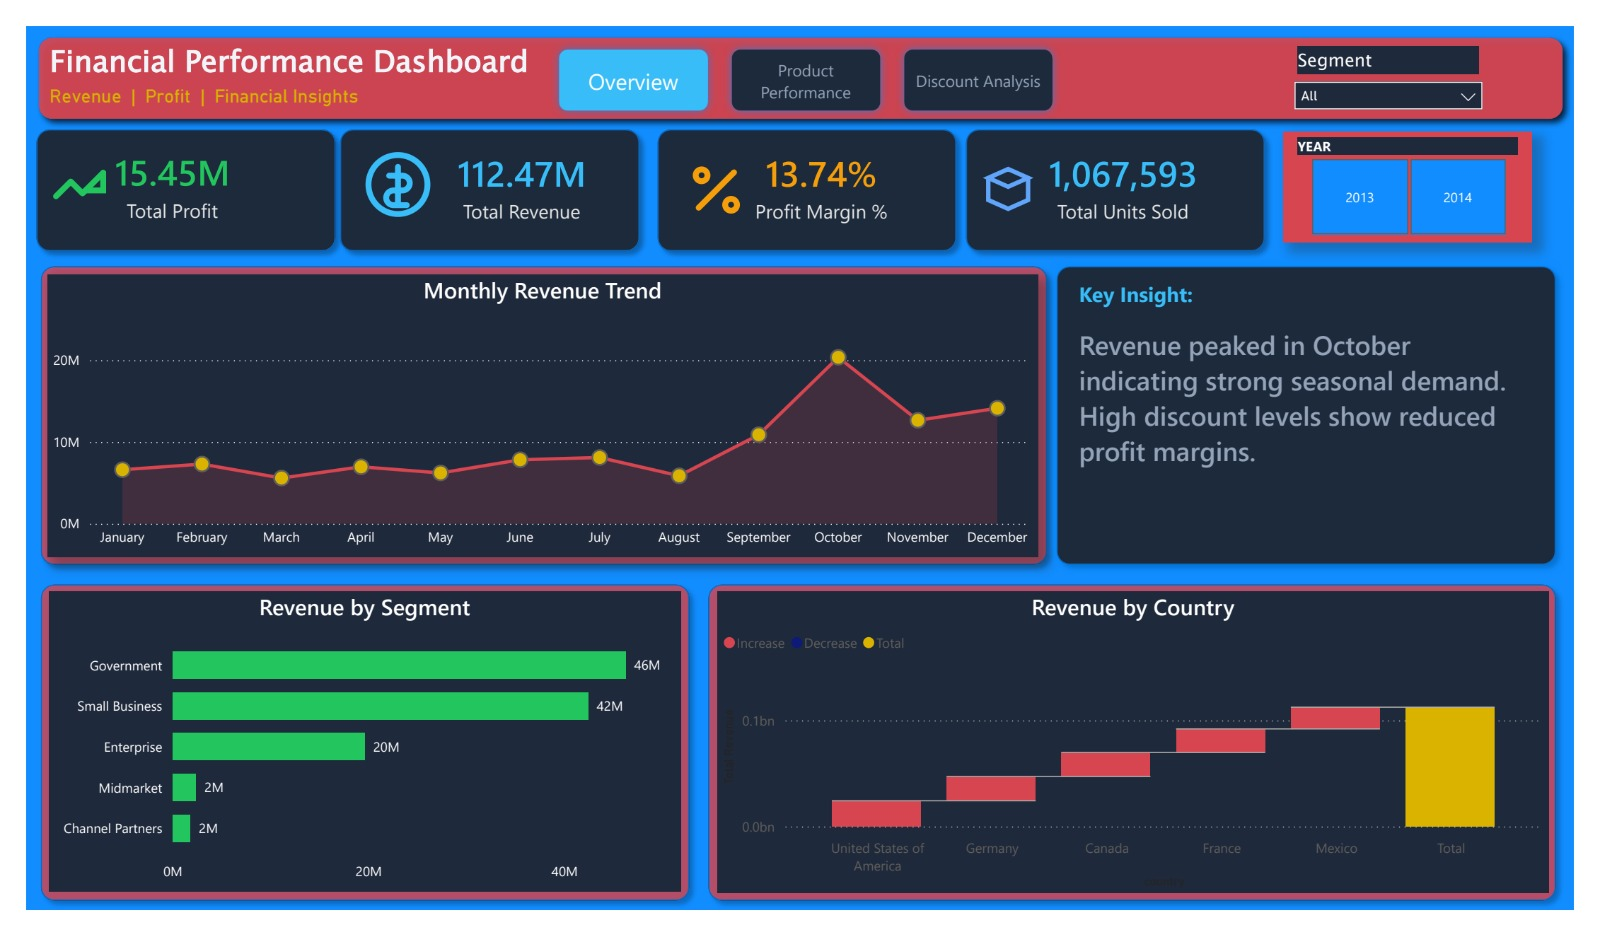

The dashboard page shown, as its layout file describes it:
{"tool":"powerbi","page":{"name":"Overview","canvas":[1400,800],"ordinal":0},"visuals":[{"type":"shape","box":[0,80,144,720],"z":0},{"type":"shape","box":[608,496,784,304],"z":1000},{"type":"shape","box":[144,496,464,304],"z":2000},{"type":"shape","box":[144,208,928,288],"z":3000},{"type":"shape","box":[1,0,1397.5,82.8],"z":4000},{"type":"textbox","box":[16,0,448,71],"z":5000},{"type":"shape","box":[144,80,288,128],"z":6000},{"type":"shape","box":[1089.3,79.8,288,128],"z":7000},{"type":"shape","box":[784,80,288,128],"z":8000},{"type":"shape","box":[464,80,288,128],"z":9000},{"type":"cardVisual","fields":{"Data":["financial_dashboard_view.Total Revenue"]},"box":[160,96,256,96],"z":10000},{"type":"cardVisual","fields":{"Data":["financial_dashboard_view.Total Profit"]},"box":[480,96,256,96],"z":11000},{"type":"cardVisual","fields":{"Data":["financial_dashboard_view.Profit Margin %"]},"box":[800,96,256,96],"z":12000},{"type":"cardVisual","fields":{"Data":["financial_dashboard_view.Total Units Sold"]},"box":[1120,96,256,96],"z":13000},{"type":"lineChart","title":"Monthly Revenue Trend","fields":{"Category":["financial_dashboard_view.month_name"],"Y":["financial_dashboard_view.Total Revenue"]},"box":[160,224,896,256],"z":14000},{"type":"clusteredBarChart","title":"Revenue by Segment","fields":{"Category":["financial_dashboard_view.segment"],"Y":["financial_dashboard_view.Total Revenue"]},"box":[160,512,432,272],"z":15000},{"type":"slicer","fields":{"Values":["financial_dashboard_view.year"]},"box":[1008.5,8,255.4,71.8],"z":16000},{"type":"waterfallChart","title":"Revenue by Country","fields":{"Category":["financial_dashboard_view.country"],"Y":["financial_dashboard_view.Total Revenue"]},"box":[624.4,511.7,752.1,272.3],"z":17000},{"type":"pageNavigator","box":[16,96,112,688],"z":18000},{"type":"slicer","fields":{"Values":["financial_dashboard_view.segment"]},"box":[704.2,8,271.3,71.8],"z":19000},{"type":"shape","box":[1072,208,320,288],"z":20000},{"type":"textbox","box":[1088,224,288,256],"z":21000},{"type":"image","box":[160,112,64,64],"z":22000},{"type":"image","box":[480,112,64,64],"z":23000},{"type":"image","box":[800,112,64,64],"z":24000},{"type":"image","box":[1120,96,48,96],"z":25000}]}

Visuals, with their boxes in screenshot pixels (x1, y1, x2, y2), scaled from the page's 1400x800 canvas onto the 1600x937 screenshot:
shape: box=[0, 94, 165, 936]
shape: box=[695, 581, 1591, 936]
shape: box=[165, 581, 695, 936]
shape: box=[165, 244, 1225, 581]
shape: box=[1, 0, 1598, 97]
textbox: box=[18, 0, 530, 83]
shape: box=[165, 94, 494, 244]
shape: box=[1245, 93, 1574, 243]
shape: box=[896, 94, 1225, 244]
shape: box=[530, 94, 859, 244]
cardVisual - financial_dashboard_view.Total Revenue: box=[183, 112, 475, 225]
cardVisual - financial_dashboard_view.Total Profit: box=[549, 112, 841, 225]
cardVisual - financial_dashboard_view.Profit Margin %: box=[914, 112, 1207, 225]
cardVisual - financial_dashboard_view.Total Units Sold: box=[1280, 112, 1573, 225]
"Monthly Revenue Trend" lineChart: box=[183, 262, 1207, 562]
"Revenue by Segment" clusteredBarChart: box=[183, 600, 677, 918]
slicer - financial_dashboard_view.year: box=[1153, 9, 1444, 93]
"Revenue by Country" waterfallChart: box=[714, 599, 1573, 918]
pageNavigator: box=[18, 112, 146, 918]
slicer - financial_dashboard_view.segment: box=[805, 9, 1115, 93]
shape: box=[1225, 244, 1591, 581]
textbox: box=[1243, 262, 1573, 562]
image: box=[183, 131, 256, 206]
image: box=[549, 131, 622, 206]
image: box=[914, 131, 987, 206]
image: box=[1280, 112, 1335, 225]
